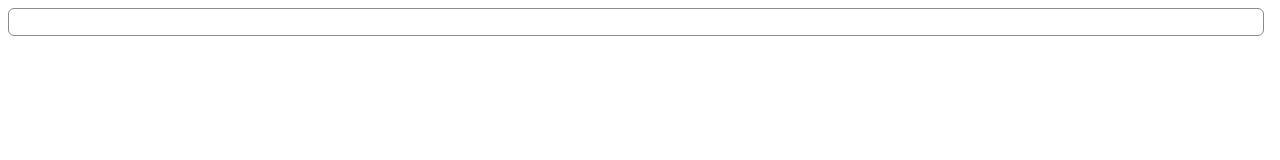
SearchBox (spec search §4, §5) › has a named clear button that empties the input and returns the focus to it
Type "graphs" into the dropdown at (636, 22), box [8,8,1264,36]
Wait 200 ms
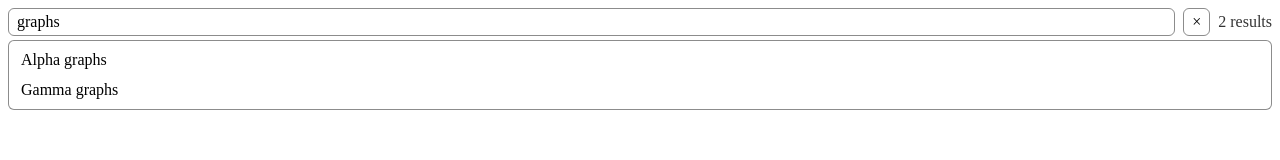
Click the button named "Clear search" at (1197, 22), box [1183,8,1210,36]
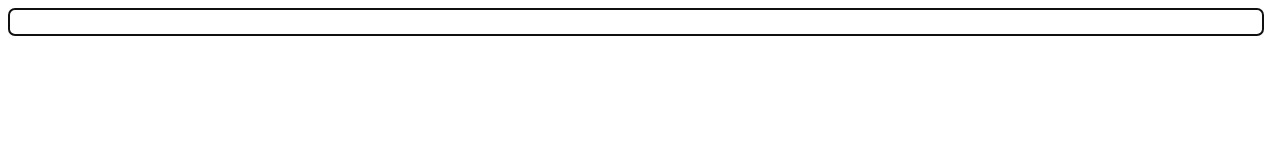
Expected: the dropdown is empty, [8,8,1264,36]
